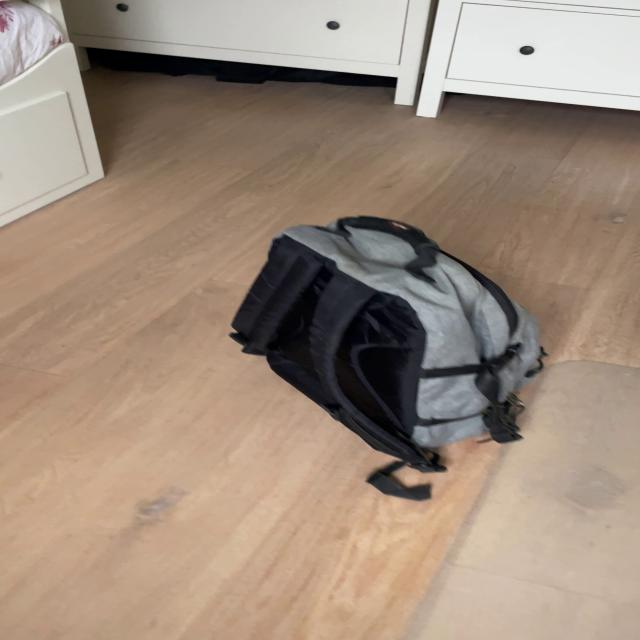backpack: (215, 202, 554, 471)
